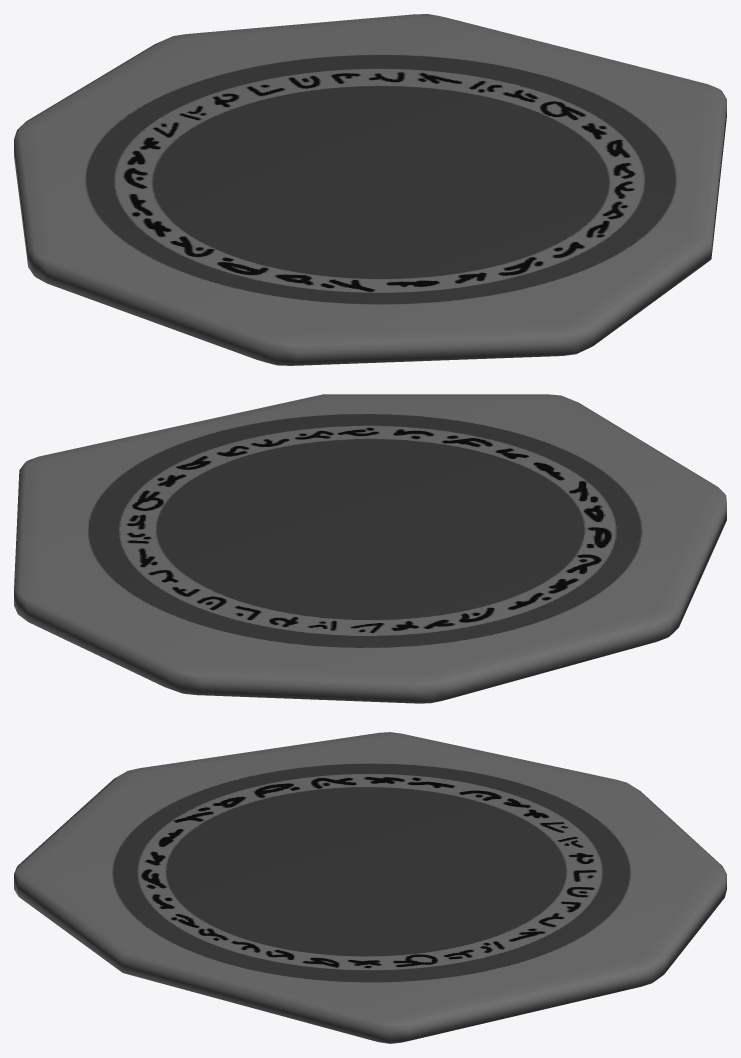
File: stone 3.fbx
3 views of the same model, one above another, from view 1: azimuth 30°, elevation 25°; view 2: azimuth 150°, elevation 25°; view 3: azimuth 270°, elevation 25° (orthographic). The views are drawn at different scales.
Visible parts, largest first — view 1: stone 3; view 2: stone 3; view 3: stone 3.
Boxes of the visible parts, <box> form: stone 3: <box>14,14,726,365</box>; stone 3: <box>14,394,726,703</box>; stone 3: <box>14,732,726,1043</box>.
Size of the model in its own units: 1181 by 43.84 by 1209.
